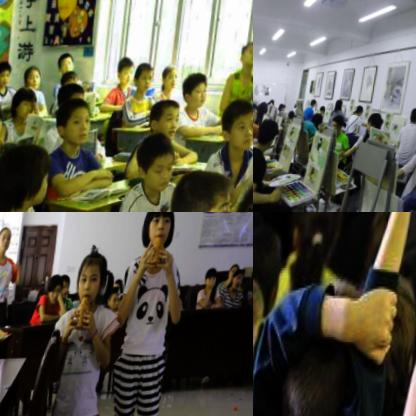head: (278, 303, 372, 416), (283, 212, 357, 281), (0, 144, 59, 212), (168, 164, 250, 212), (133, 130, 189, 199), (253, 214, 291, 313), (253, 265, 275, 401), (216, 96, 253, 160), (56, 96, 99, 146), (146, 97, 186, 143), (76, 252, 111, 303), (179, 71, 216, 115), (142, 212, 180, 253), (10, 82, 41, 119), (258, 116, 283, 154), (133, 61, 160, 94), (57, 81, 87, 110), (114, 56, 138, 90), (160, 62, 184, 94), (23, 61, 47, 88), (0, 96, 12, 146), (55, 50, 78, 75), (51, 274, 68, 305), (369, 113, 389, 138), (110, 285, 127, 312), (240, 41, 253, 73), (0, 60, 14, 87), (0, 228, 15, 252), (60, 69, 81, 86), (233, 272, 250, 292), (207, 268, 222, 290), (62, 274, 75, 299), (334, 114, 349, 134), (260, 98, 273, 116), (231, 265, 243, 283), (253, 103, 263, 124), (356, 104, 368, 119), (338, 100, 348, 112), (313, 98, 320, 112), (291, 110, 299, 122), (412, 108, 416, 125), (322, 106, 329, 115), (283, 103, 289, 111)
